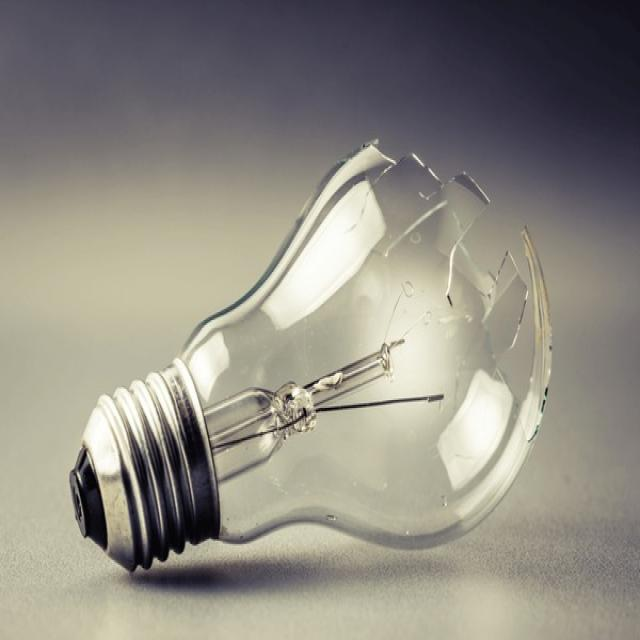bulb: (63, 35, 640, 571)
